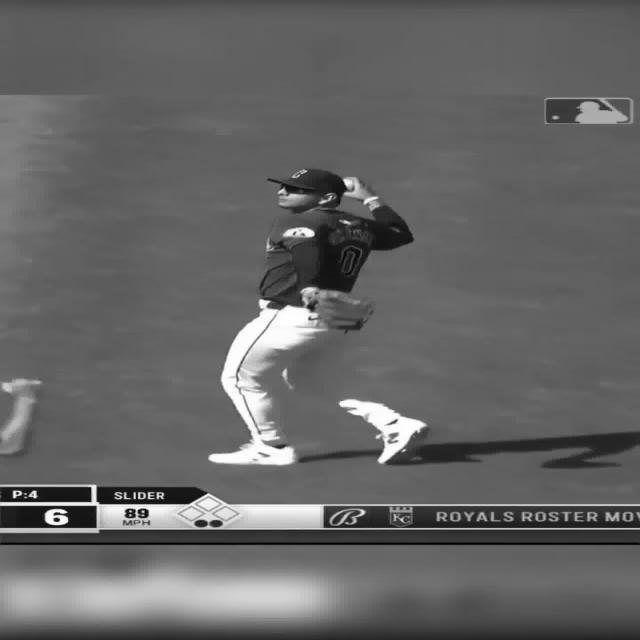baseball: (341, 177, 355, 192)
baseball_glove: (300, 288, 374, 330)
shoe: (338, 398, 428, 464), (374, 416, 428, 464), (207, 442, 296, 466)
